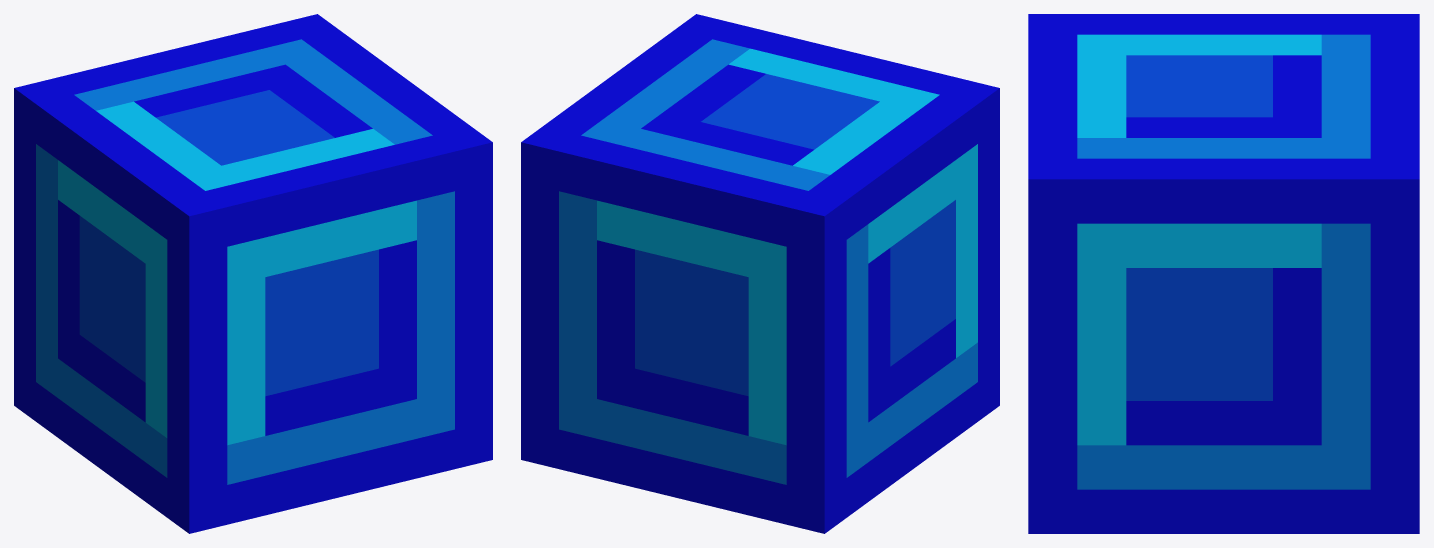
Rendered from cube_bleu.obj.
3 views of the same model, side by side, from view 1: azimuth 30°, elevation 25°; view 2: azimuth 150°, elevation 25°; view 3: azimuth 270°, elevation 25° (orthographic). The views are drawn at different scales.
Size of the model in its own units: 0.8 by 0.8 by 0.8.
1 material, 1 textured.
